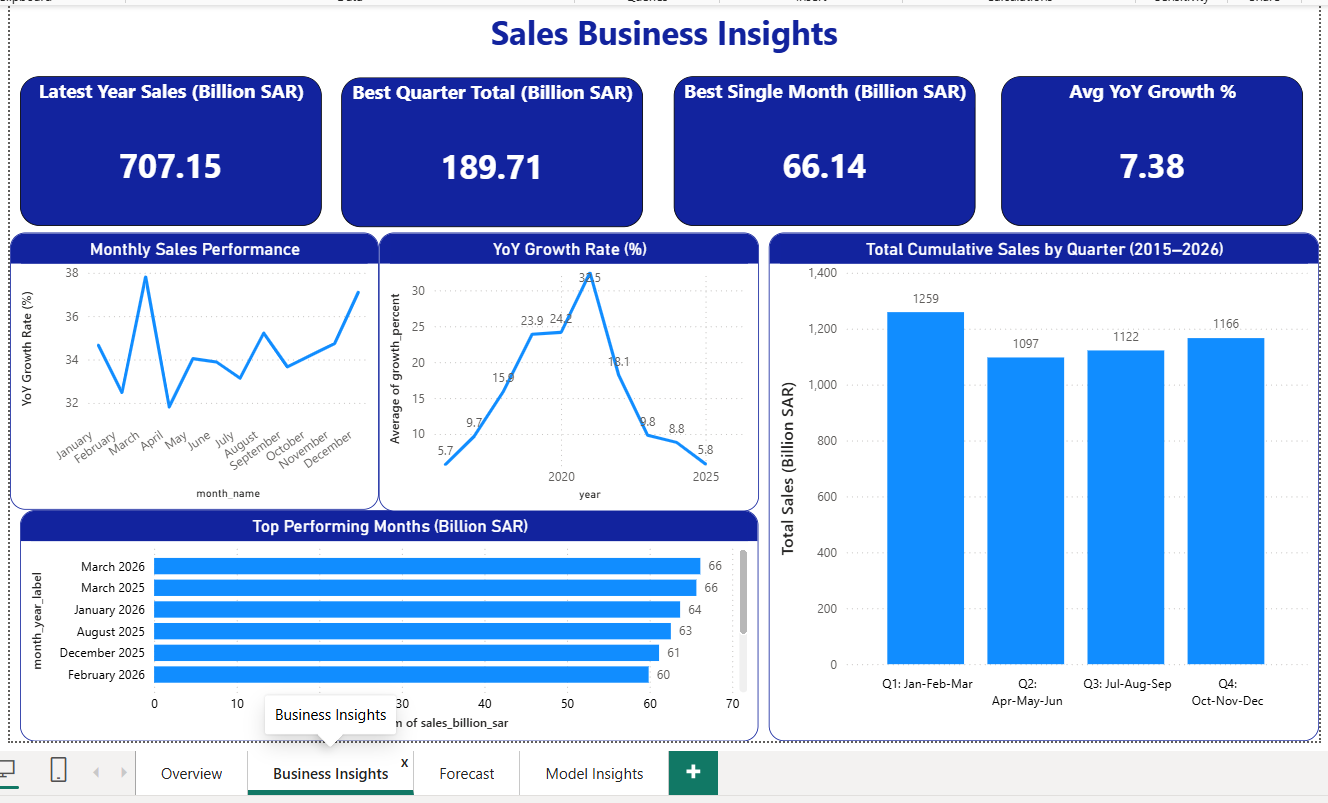

What the dashboard file says about the page in this screenshot:
{"tool":"powerbi","page":{"name":"Business Insights","canvas":[1280,720],"ordinal":1},"visuals":[{"type":"textbox","box":[0,0,1280,53.8],"z":0},{"type":"cardVisual","title":"Latest Year Sales (Billion SAR)","fields":{"Data":["sql_yearly_sales.Total Annual Sales (B)"]},"box":[10,70,295,146.2],"z":1000},{"type":"cardVisual","title":"Best Quarter Total (Billion SAR)","fields":{"Data":["saudi_sales_clean.Best Quarter Total 10 Years"]},"box":[323.8,71.2,295,146.2],"z":2000},{"type":"cardVisual","title":"Best Single Month (Billion SAR)","fields":{"Data":["sql_top10_months.Best Month (B)"]},"box":[648.8,70,295,146.2],"z":3000},{"type":"cardVisual","title":"Avg YoY Growth %","fields":{"Data":["Avg(sql_yoy_growth.growth_percent)"]},"box":[970,70,295,146.2],"z":4000},{"type":"lineChart","title":"Monthly Sales Performance","fields":{"Y":["Sum(sql_monthly_sales.avg_sales_billion)"],"Category":["sql_monthly_sales.month_name"]},"box":[0,222.6,360.7,271.5],"z":5000},{"type":"clusteredColumnChart","title":"Total Cumulative Sales by Quarter (2015–2026)","fields":{"Category":["sql_quarterly_sales.quarter_name"],"Y":["Avg(sql_quarterly_sales.total_sales_billion)"]},"box":[742.3,222.6,538,497.7],"z":6000},{"type":"clusteredBarChart","title":"Top Performing Months (Billion SAR)","fields":{"Category":["sql_top10_months.month_year_label"],"Y":["Sum(sql_top10_months.sales_billion_sar)"]},"box":[9.6,493.6,722.5,226.2],"z":7000},{"type":"lineChart","title":"YoY Growth Rate (%)","fields":{"Category":["sql_yoy_growth.year"],"Y":["Avg(sql_yoy_growth.growth_percent)"]},"box":[360.7,222.6,371.7,272.7],"z":8000}]}

Visuals, with their boxes in screenshot pixels (x1, y1, x2, y2):
textbox: 3, 0, 1313, 55
"Latest Year Sales (Billion SAR)" cardVisual: 14, 72, 316, 221
"Best Quarter Total (Billion SAR)" cardVisual: 335, 73, 637, 222
"Best Single Month (Billion SAR)" cardVisual: 667, 72, 969, 221
"Avg YoY Growth %" cardVisual: 996, 72, 1298, 221
"Monthly Sales Performance" lineChart: 3, 228, 373, 506
"Total Cumulative Sales by Quarter (2015–2026)" clusteredColumnChart: 763, 228, 1313, 737
"Top Performing Months (Billion SAR)" clusteredBarChart: 13, 505, 753, 736
"YoY Growth Rate (%)" lineChart: 373, 228, 753, 507
